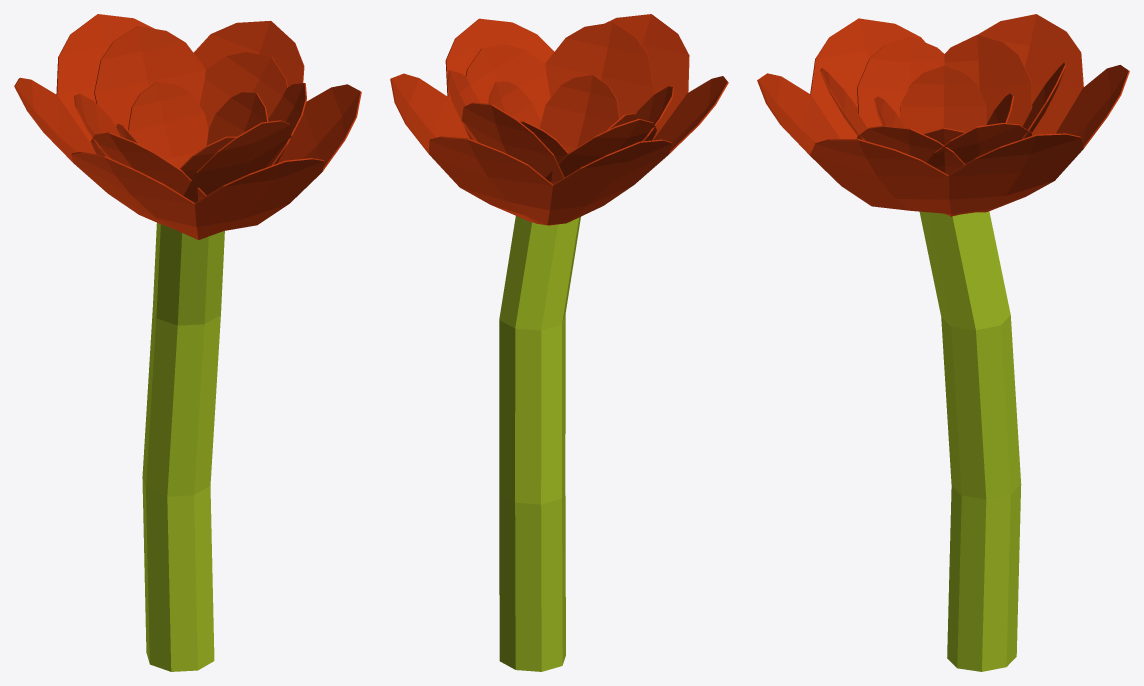
File: Flower01.fbx
3 renders of one model, left to right at view 1: azimuth 30°, elevation 25°; view 2: azimuth 150°, elevation 25°; view 3: azimuth 270°, elevation 25°, orthographic. The views are drawn at different scales.
Parts seen in each view (by area): view 1: Flower01; view 2: Flower01; view 3: Flower01.
Boxes of the visible parts, x1,y1,x2,y2 form: Flower01: [14, 14, 361, 671]; Flower01: [390, 14, 728, 671]; Flower01: [757, 14, 1129, 671].
Size of the model in its own units: 0.2062 by 0.4413 by 0.2514.
